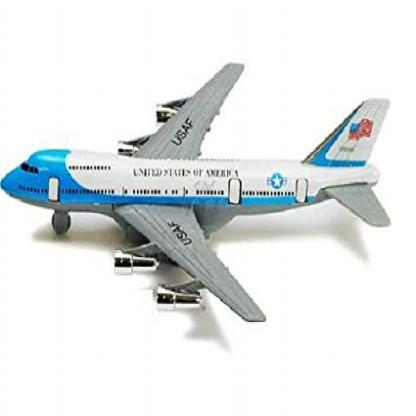CIV_Plane: (1, 54, 393, 323)
